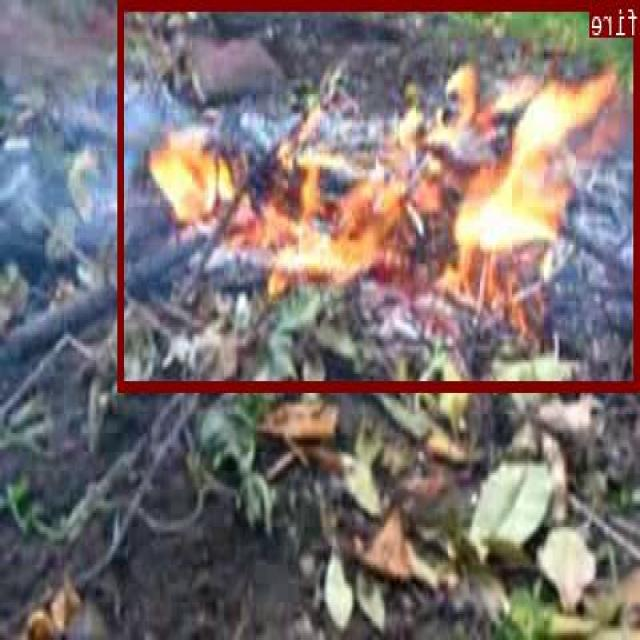fire: (119, 0, 640, 388)
